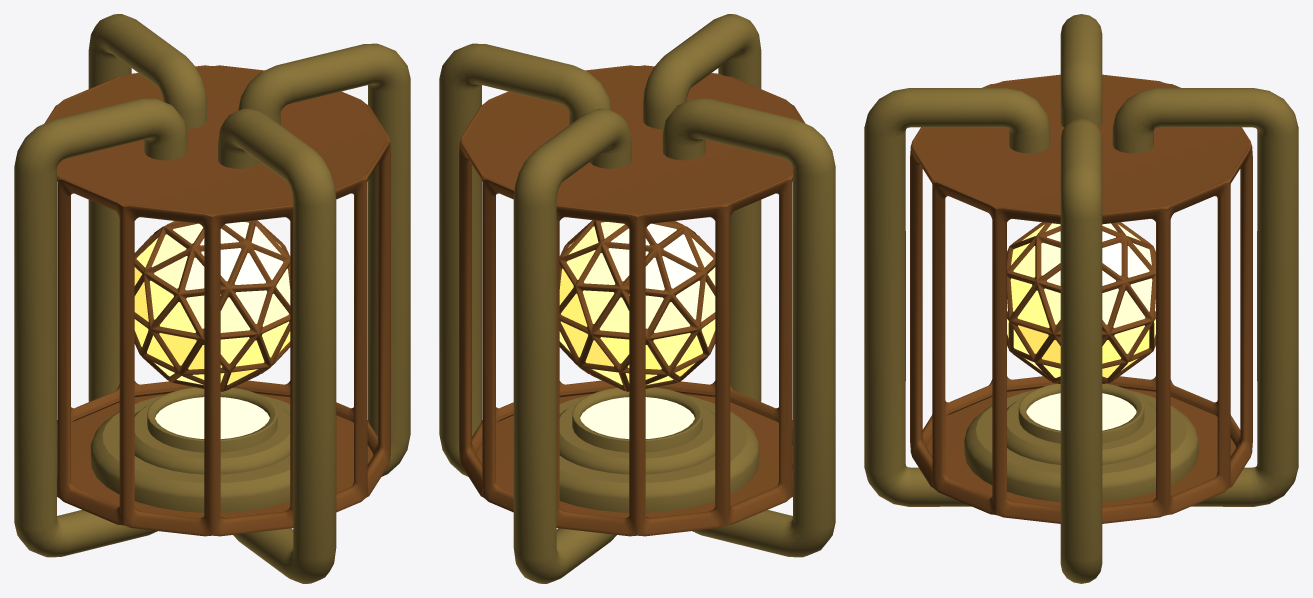
File: steampunk_energy_core.glb
3 views of the same model, side by side, from view 1: azimuth 30°, elevation 25°; view 2: azimuth 150°, elevation 25°; view 3: azimuth 270°, elevation 25° (orthographic). The views are drawn at different scales.
Visible parts, largest first — view 1: Cylinder_5, Pipe.002_6, Pipe.003_7, Core Holder_2, Energy Core Case_1, Energy Core_0; view 2: Cylinder_5, Pipe.002_6, Pipe.003_7, Core Holder_2, Energy Core Case_1, Energy Core_0; view 3: Cylinder_5, Pipe.003_7, Pipe.002_6, Core Holder_2, Energy Core_0, Energy Core Case_1.
Boxes of the visible parts, x1,y1,x2,y2 form: Cylinder_5: (44, 65, 390, 536); Pipe.002_6: (14, 43, 410, 557); Pipe.003_7: (88, 14, 336, 583); Core Holder_2: (90, 387, 290, 512); Energy Core Case_1: (134, 222, 290, 384); Energy Core_0: (134, 220, 290, 391); Cylinder_5: (459, 65, 805, 536); Pipe.002_6: (439, 43, 835, 557); Pipe.003_7: (513, 14, 761, 583); Core Holder_2: (559, 387, 759, 512); Energy Core Case_1: (559, 222, 715, 384); Energy Core_0: (559, 220, 715, 391); Cylinder_5: (910, 74, 1252, 523); Pipe.003_7: (864, 88, 1298, 506); Pipe.002_6: (1060, 14, 1102, 583); Core Holder_2: (964, 383, 1198, 502); Energy Core_0: (1007, 222, 1155, 383); Energy Core Case_1: (1007, 223, 1155, 377).
Size of the model in its own units: 2.62 by 2.78 by 2.62.
